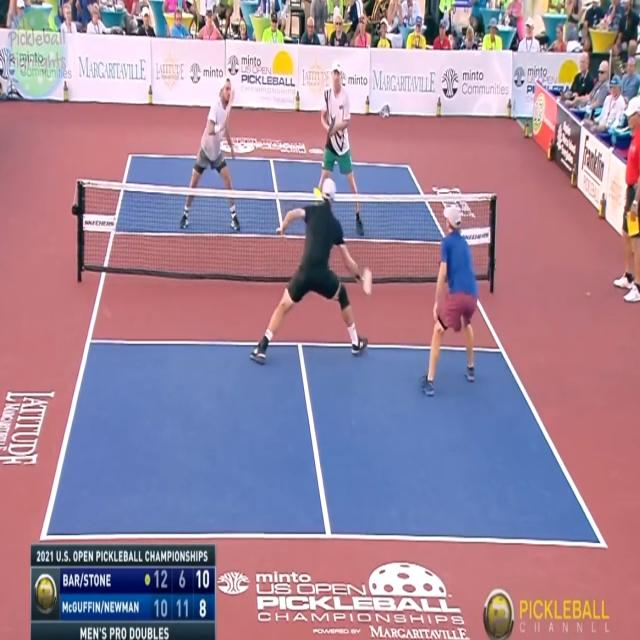Court: (46, 158, 605, 542)
ball: (310, 180, 324, 202)
